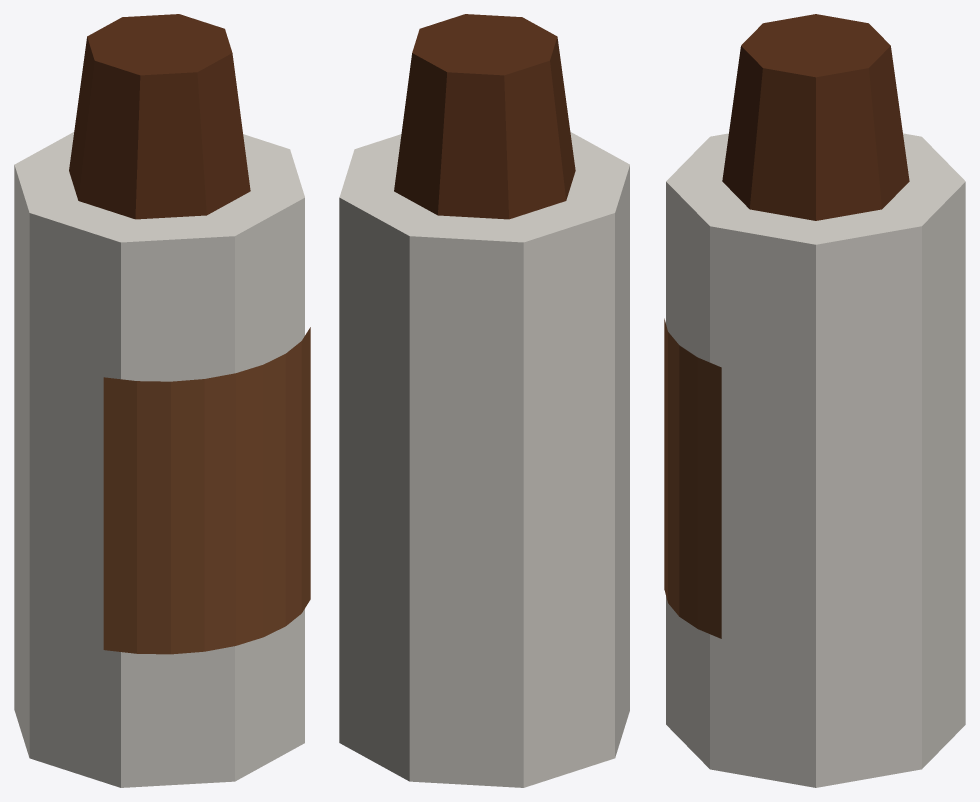
File: dog_dye.glb
3 views of the same model, side by side, from view 1: azimuth 30°, elevation 25°; view 2: azimuth 150°, elevation 25°; view 3: azimuth 270°, elevation 25° (orthographic).
Visible parts, largest first — view 1: bottle_dye_plastic, label_greyhound_dye, bottle_dye_cap; view 2: bottle_dye_plastic, bottle_dye_cap; view 3: bottle_dye_plastic, bottle_dye_cap, label_greyhound_dye.
Part boxes in pixels (x1,y1,x2,y2): bottle_dye_plastic: (14,132,304,787); label_greyhound_dye: (103,327,310,654); bottle_dye_cap: (69,14,250,219); bottle_dye_plastic: (339,132,629,787); bottle_dye_cap: (394,14,575,219); bottle_dye_plastic: (666,133,965,787); bottle_dye_cap: (722,14,909,220); label_greyhound_dye: (664,318,721,638).
Size of the model in its own units: 0.08 by 0.2 by 0.0805.
